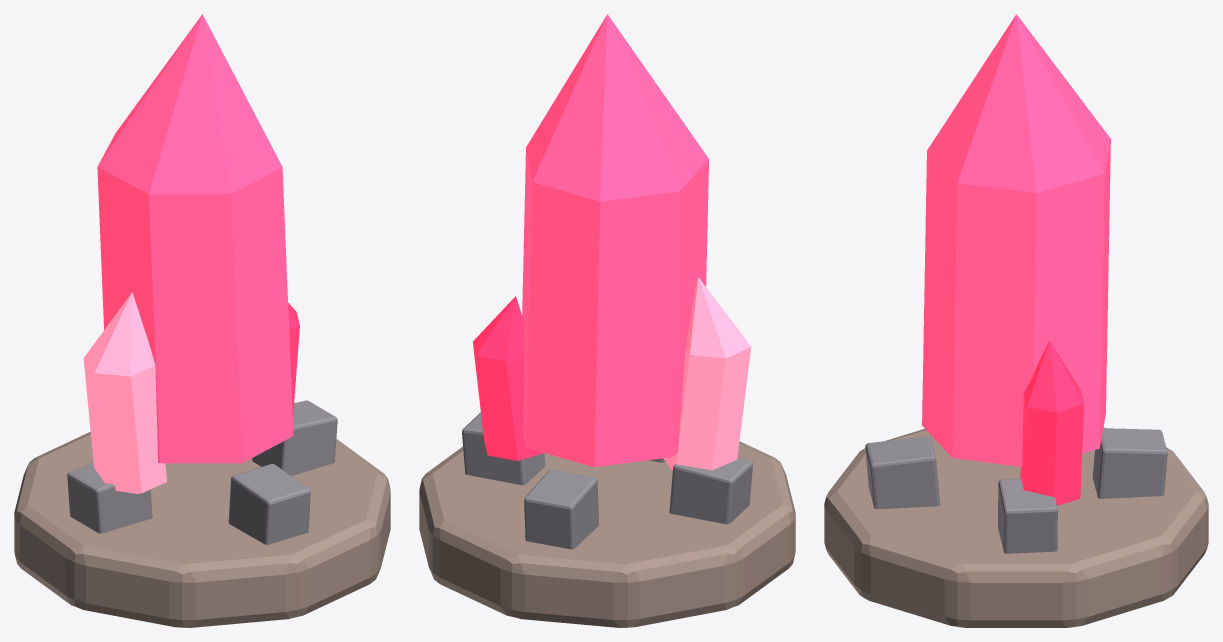
Rendered from Storybook_MagicStone_B.fbx.
3 views of the same model, side by side, from view 1: azimuth 30°, elevation 25°; view 2: azimuth 150°, elevation 25°; view 3: azimuth 270°, elevation 25° (orthographic).
Parts seen in each view (by area): view 1: Crystal.003, Pedestal.003, Crystal_Shard_A.002, Pedestal_Petal_3, Pedestal_Petal_2, Pedestal_Petal_0, Crystal_Shard_B.002; view 2: Crystal.003, Pedestal.003, Crystal_Shard_A.002, Crystal_Shard_B.002, Pedestal_Petal_1, Pedestal_Petal_2, Pedestal_Petal_0; view 3: Crystal.003, Pedestal.003, Crystal_Shard_B.002, Pedestal_Petal_1, Pedestal_Petal_3, Pedestal_Petal_0.
Boxes of the visible parts, x1,y1,x2,y2 form: Crystal.003: [97, 14, 293, 463]; Pedestal.003: [14, 432, 390, 627]; Crystal_Shard_A.002: [83, 292, 166, 493]; Pedestal_Petal_3: [228, 463, 310, 544]; Pedestal_Petal_2: [67, 463, 152, 533]; Pedestal_Petal_0: [252, 400, 337, 475]; Crystal_Shard_B.002: [288, 302, 299, 415]; Crystal.003: [522, 14, 708, 467]; Pedestal.003: [419, 441, 795, 627]; Crystal_Shard_A.002: [664, 277, 750, 470]; Crystal_Shard_B.002: [472, 296, 543, 460]; Pedestal_Petal_1: [524, 469, 599, 549]; Pedestal_Petal_2: [669, 457, 752, 524]; Pedestal_Petal_0: [462, 412, 545, 485]; Crystal.003: [922, 14, 1110, 466]; Pedestal.003: [824, 427, 1208, 627]; Crystal_Shard_B.002: [1020, 340, 1083, 505]; Pedestal_Petal_1: [1092, 428, 1167, 498]; Pedestal_Petal_3: [865, 436, 940, 509]; Pedestal_Petal_0: [998, 478, 1057, 553].
Bounding box in the file's own units: 1.79 × 2.88 × 1.85.
